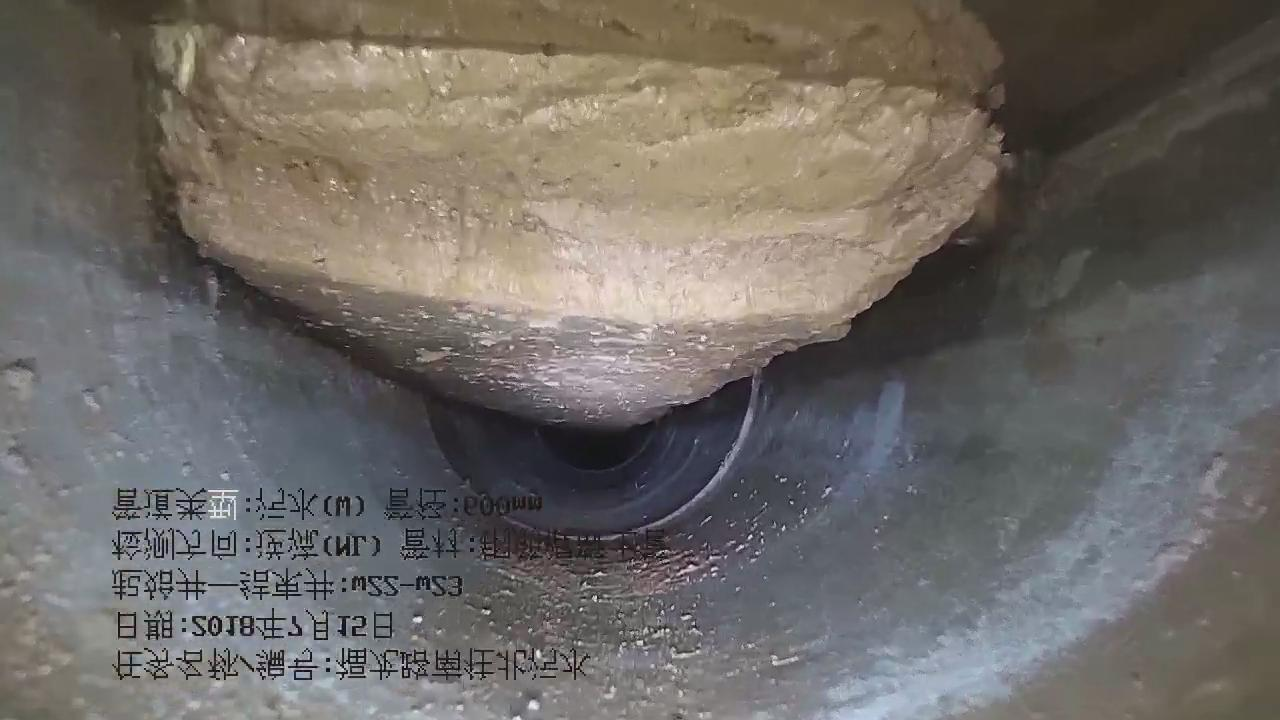CKTJ: (505, 371, 764, 544)
JG: (157, 25, 999, 430)
